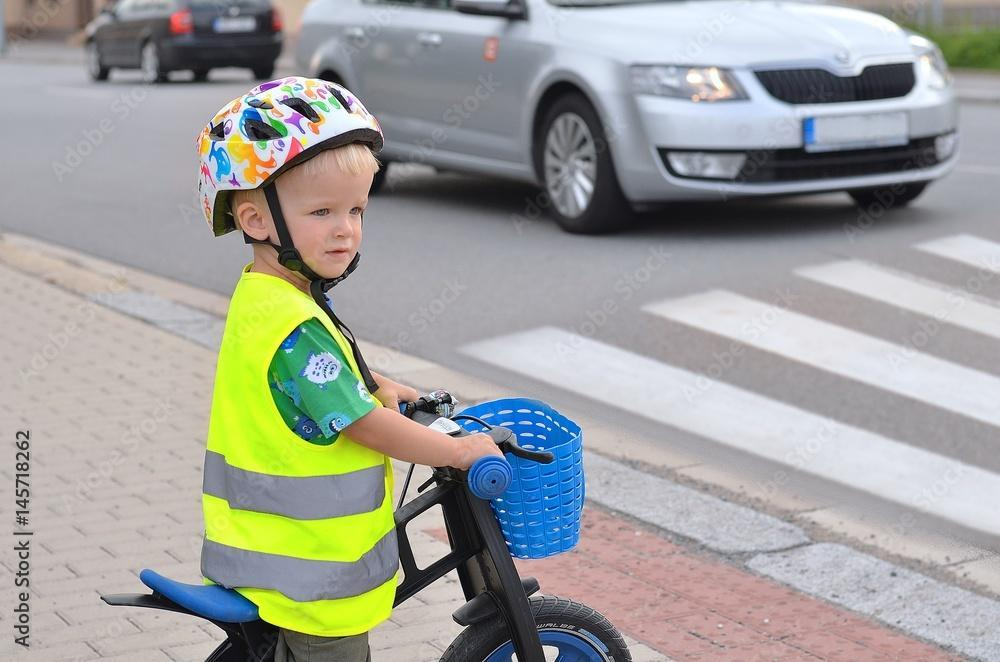Vest: (191, 278, 409, 633)
